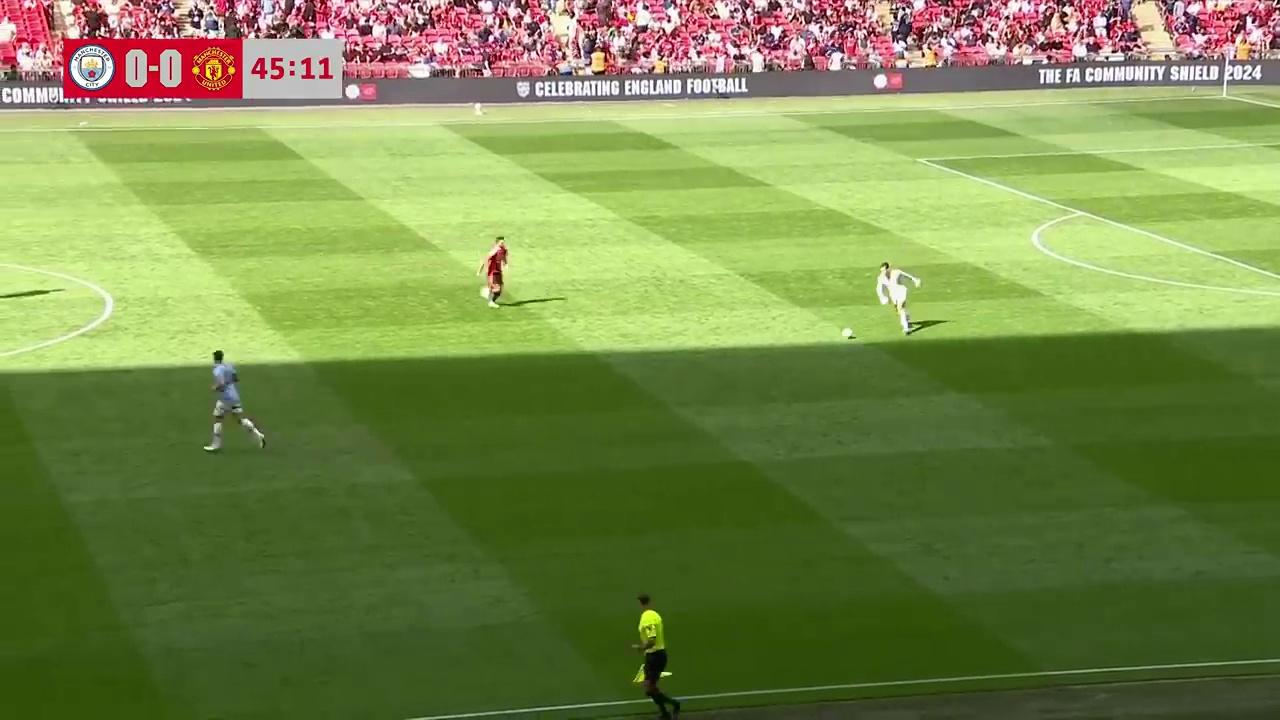ball: (840, 324, 855, 341)
player: (203, 349, 267, 453), (877, 261, 918, 339), (477, 236, 509, 307)
referee: (630, 593, 678, 717)
